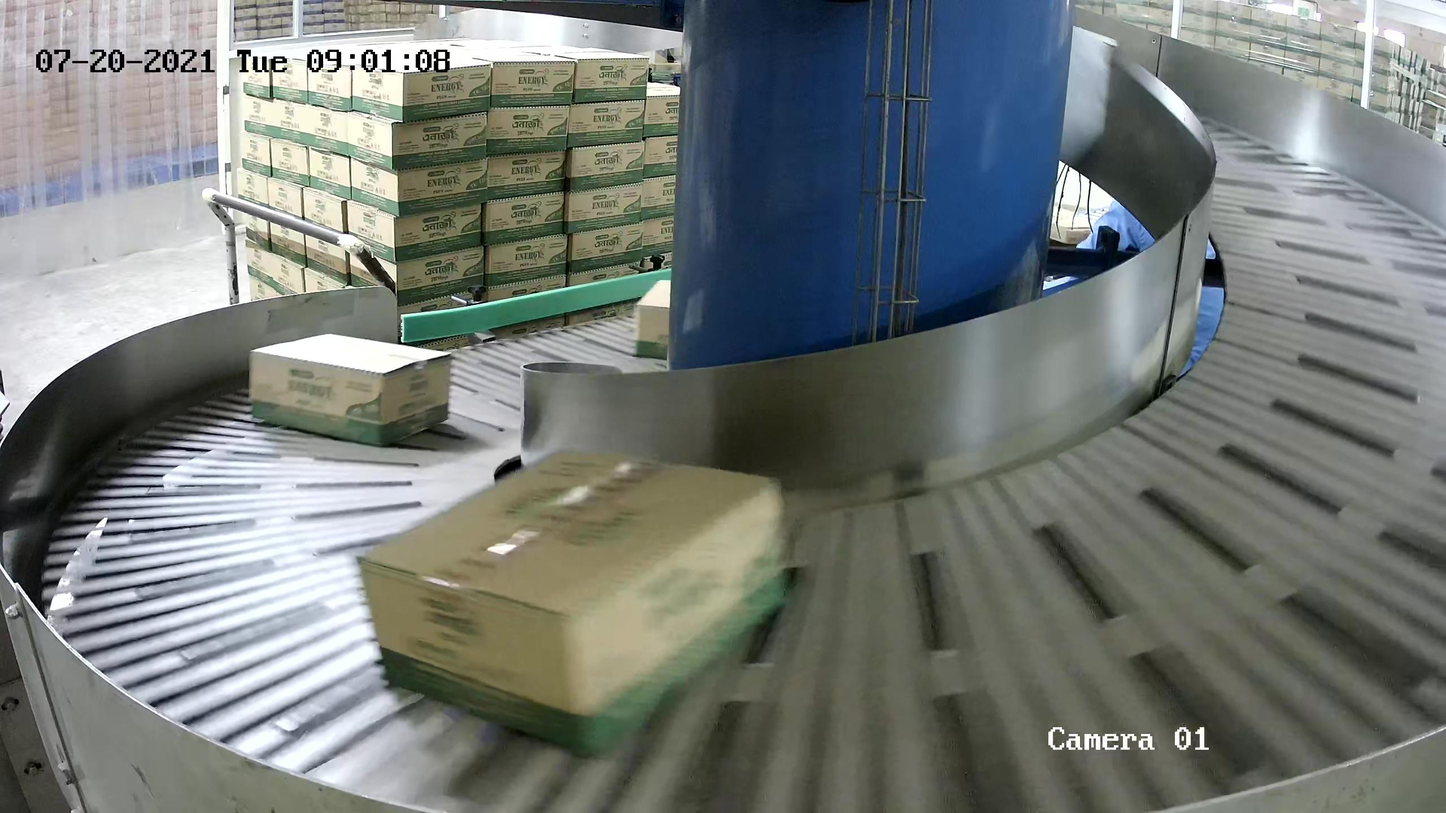Box: (354, 447, 795, 762), (248, 332, 455, 451)
